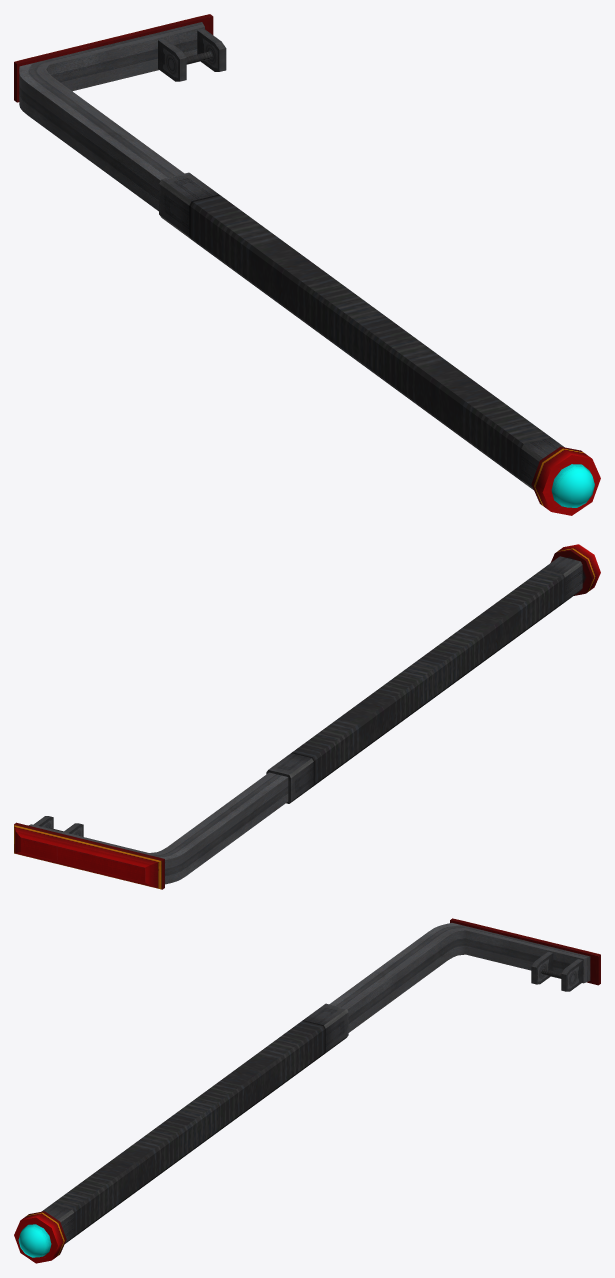
Rendered from Pulley_base_high.fbx.
The picture shows the model from 3 angles, top to bottom: view 1: azimuth 30°, elevation 25°; view 2: azimuth 150°, elevation 25°; view 3: azimuth 330°, elevation 25°; orthographic projection. The views are drawn at different scales.
Visible parts, largest first — view 1: cmn_obj_pulleystand_HD; view 2: cmn_obj_pulleystand_HD; view 3: cmn_obj_pulleystand_HD.
Boxes of the visible parts, bbox=[...] form: cmn_obj_pulleystand_HD: bbox=[14, 14, 600, 515]; cmn_obj_pulleystand_HD: bbox=[14, 544, 600, 889]; cmn_obj_pulleystand_HD: bbox=[14, 918, 600, 1263].
Size of the model in its own units: 1.66 by 0.4368 by 7.41.
